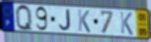7: (100, 9, 115, 35)
9: (35, 6, 48, 32)
J: (58, 9, 72, 32)
K: (76, 8, 91, 34), (119, 11, 134, 36)
Q: (14, 4, 35, 33)
